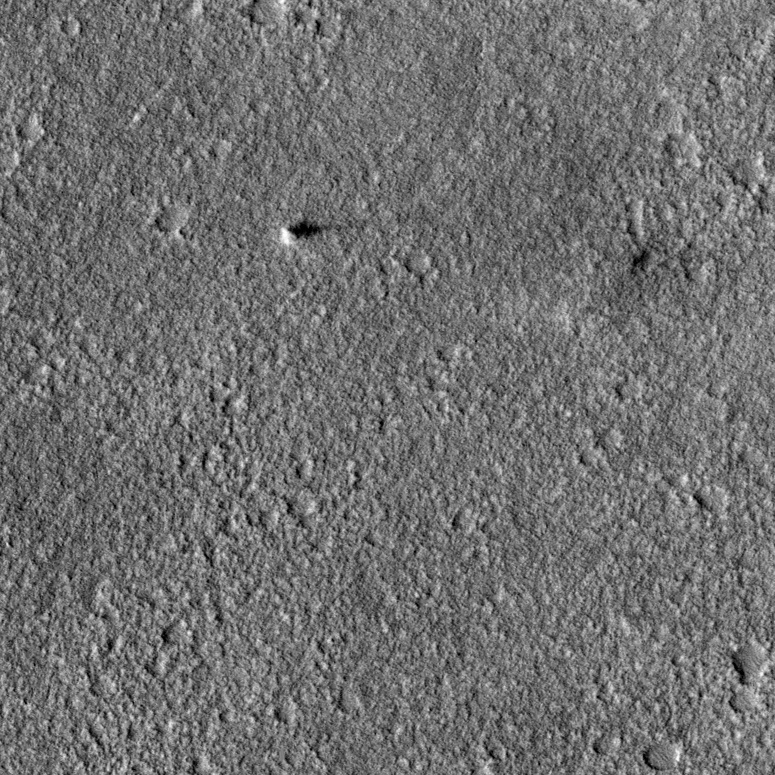dust_devil: (279, 214, 343, 249)
